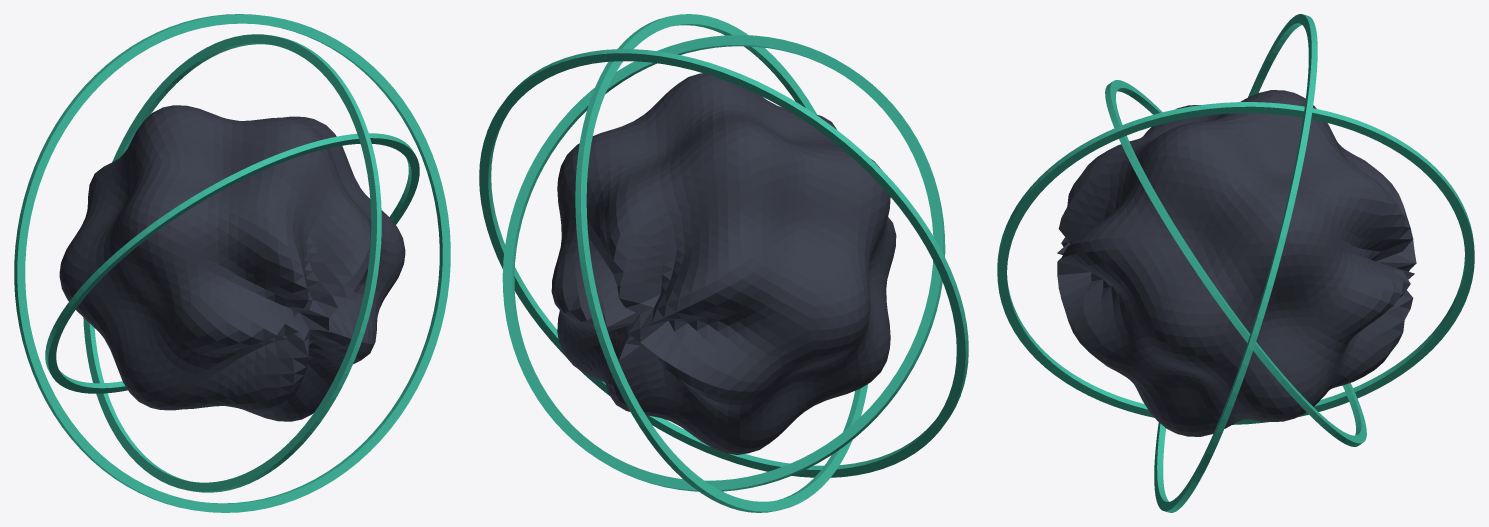
File: gpu-artifact.glb
3 views of the same model, side by side, from view 1: azimuth 30°, elevation 25°; view 2: azimuth 150°, elevation 25°; view 3: azimuth 270°, elevation 25° (orthographic). The views are drawn at different scales.
Parts seen in each view (by area): view 1: web-security-guard_obsidian_core, web-security-guard_orbital_ring_2, web-security-guard_orbital_ring_1, web-security-guard_orbital_ring_0; view 2: web-security-guard_obsidian_core, web-security-guard_orbital_ring_0, web-security-guard_orbital_ring_2, web-security-guard_orbital_ring_1; view 3: web-security-guard_obsidian_core, web-security-guard_orbital_ring_1, web-security-guard_orbital_ring_2, web-security-guard_orbital_ring_0.
Part boxes in pixels (x1,y1,x2,y2): web-security-guard_obsidian_core: (59,105,405,421); web-security-guard_orbital_ring_2: (14,14,450,512); web-security-guard_orbital_ring_1: (83,34,381,492); web-security-guard_orbital_ring_0: (45,133,419,393); web-security-guard_obsidian_core: (551,73,896,454); web-security-guard_orbital_ring_0: (502,35,945,491); web-security-guard_orbital_ring_2: (479,49,968,477); web-security-guard_orbital_ring_1: (575,14,867,512); web-security-guard_obsidian_core: (1057,90,1416,436); web-security-guard_orbital_ring_1: (997,102,1474,424); web-security-guard_orbital_ring_2: (1154,14,1317,512); web-security-guard_orbital_ring_0: (1105,80,1366,446).
Size of the model in its own units: 3.24 by 3.1 by 3.
